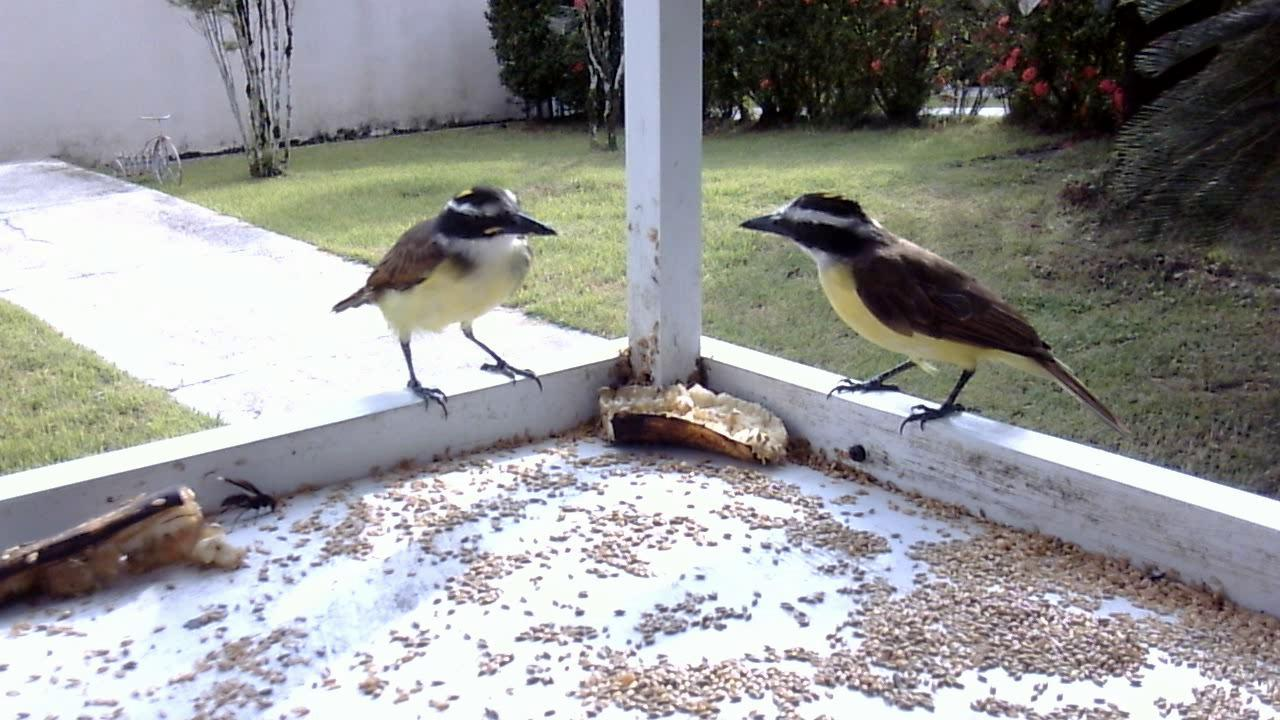bem_te_vi: (728, 182, 1136, 458), (316, 170, 567, 433)
